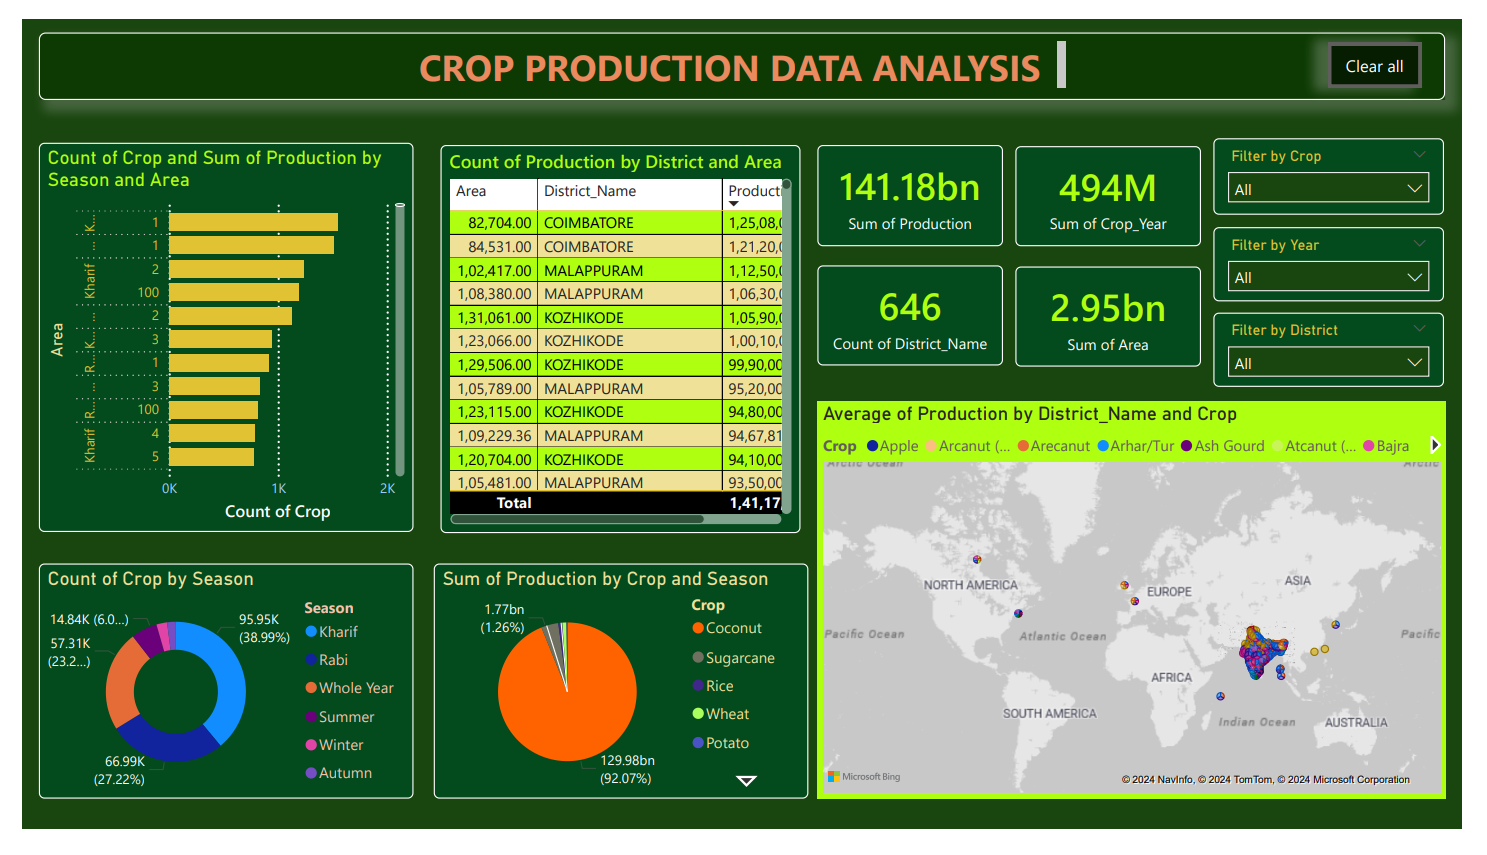

This screenshot's page, from the dashboard's own definition file:
{"tool":"powerbi","page":{"name":"Page 1","canvas":[1280,720],"ordinal":0},"visuals":[{"type":"shape","box":[15.1,11.6,1250,60.5],"z":0},{"type":"textbox","box":[347.7,15.1,584.9,52.3],"z":1000},{"type":"barChart","fields":{"Category":["cleaned crop production data.Season","cleaned crop production data.Area"],"Y":["CountNonNull(cleaned crop production data.Crop)"]},"box":[15.1,110.5,332.6,345.3],"z":2000},{"type":"tableEx","title":"Count of Production by District and Area","fields":{"Values":["cleaned crop production data.Area","cleaned crop production data.District_Name","Sum(cleaned crop production data.Production)"]},"box":[372.1,111.6,319.8,345.3],"z":3000},{"type":"donutChart","fields":{"Y":["CountNonNull(cleaned crop production data.Crop)"],"Category":["cleaned crop production data.Season"]},"box":[15.1,483.7,332.6,209.3],"z":4000},{"type":"pieChart","fields":{"Category":["cleaned crop production data.Crop"],"Y":["Sum(cleaned crop production data.Production)"],"Series":["cleaned crop production data.Season"]},"box":[366.3,483.7,332.6,209.3],"z":5000},{"type":"card","fields":{"Values":["Sum(cleaned crop production data.Production)"]},"box":[707,111.6,165,90.7],"z":6000},{"type":"card","fields":{"Values":["Sum(cleaned crop production data.Crop_Year)"]},"box":[882.6,112.8,165.1,89.5],"z":7000},{"type":"card","fields":{"Values":["Sum(cleaned crop production data.Area)"]},"box":[882.6,219.8,165.1,89.5],"z":8000},{"type":"card","fields":{"Values":["Count(cleaned crop production data.District_Name)"]},"box":[707,218.6,165.1,89.5],"z":9000},{"type":"slicer","fields":{"Values":["cleaned crop production data.Crop"]},"box":[1058.6,105.7,205.7,68.6],"z":10000},{"type":"slicer","fields":{"Values":["cleaned crop production data.Crop_Year"]},"box":[1058.6,185,205.7,65.7],"z":11000},{"type":"map","fields":{"Category":["cleaned crop production data.District_Name","cleaned crop production data.Area"],"Y":["Avg(cleaned crop production data.Production)"],"Series":["cleaned crop production data.Crop"]},"box":[707.1,340,558.6,352.9],"z":12000},{"type":"actionButton","box":[1161.4,21.4,82.9,40],"z":13000},{"type":"slicer","fields":{"Values":["cleaned crop production data.District_Name"]},"box":[1058.6,261.4,205.7,65.7],"z":14000}]}

Visuals, with their boxes in screenshot pixels (x1, y1, x2, y2), scaled from the page's 1280x720 canvas onto the 1487x855 screenshot:
shape: bbox(18, 14, 1470, 86)
textbox: bbox(404, 18, 1083, 80)
barChart - cleaned crop production data.Season x cleaned crop production data.Area: bbox(18, 131, 404, 541)
"Count of Production by District and Area" tableEx: bbox(432, 133, 804, 543)
donutChart - CountNonNull(cleaned crop production data.Crop) x cleaned crop production data.Season: bbox(18, 574, 404, 823)
pieChart - cleaned crop production data.Crop x Sum(cleaned crop production data.Production): bbox(426, 574, 812, 823)
card - Sum(cleaned crop production data.Production): bbox(821, 133, 1013, 240)
card - Sum(cleaned crop production data.Crop_Year): bbox(1025, 134, 1217, 240)
card - Sum(cleaned crop production data.Area): bbox(1025, 261, 1217, 367)
card - Count(cleaned crop production data.District_Name): bbox(821, 260, 1013, 366)
slicer - cleaned crop production data.Crop: bbox(1230, 126, 1469, 207)
slicer - cleaned crop production data.Crop_Year: bbox(1230, 220, 1469, 298)
map - cleaned crop production data.District_Name x cleaned crop production data.Area: bbox(821, 404, 1470, 823)
actionButton: bbox(1349, 25, 1446, 73)
slicer - cleaned crop production data.District_Name: bbox(1230, 310, 1469, 388)
